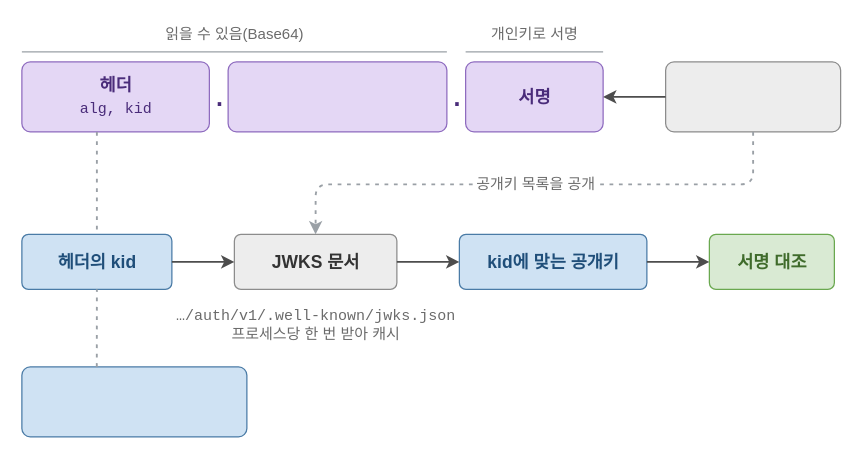
Image size: 863x459. Some labels were removed from this diagram. Here are the shapes that lost their labels. From the top down, the centre of each, then its label:
point (337, 96): 페이로드 sub, exp, aud
point (752, 96): Supabase 개인키로 서명해 발급
point (134, 401): Go 함수 공개키로 검증만 · 비밀 없음
